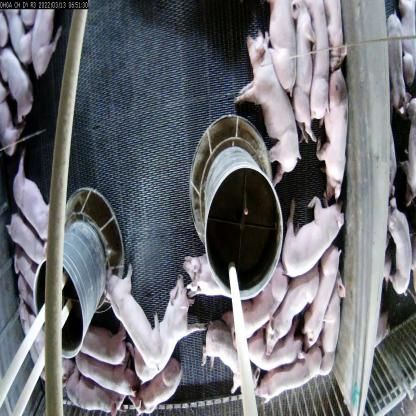Pig: (238, 24, 300, 175), (124, 286, 196, 388), (101, 258, 165, 371), (203, 313, 264, 405), (284, 0, 318, 132), (228, 261, 286, 337), (256, 350, 323, 415), (10, 154, 61, 237), (75, 339, 139, 402), (290, 202, 340, 272), (301, 0, 332, 112), (268, 275, 316, 344), (317, 75, 345, 193), (262, 0, 297, 92), (130, 360, 185, 415), (0, 49, 36, 130), (64, 370, 123, 415), (0, 218, 50, 271), (25, 0, 61, 70), (246, 335, 308, 375), (78, 322, 133, 366), (325, 277, 348, 381), (312, 258, 342, 336), (182, 252, 225, 300)
